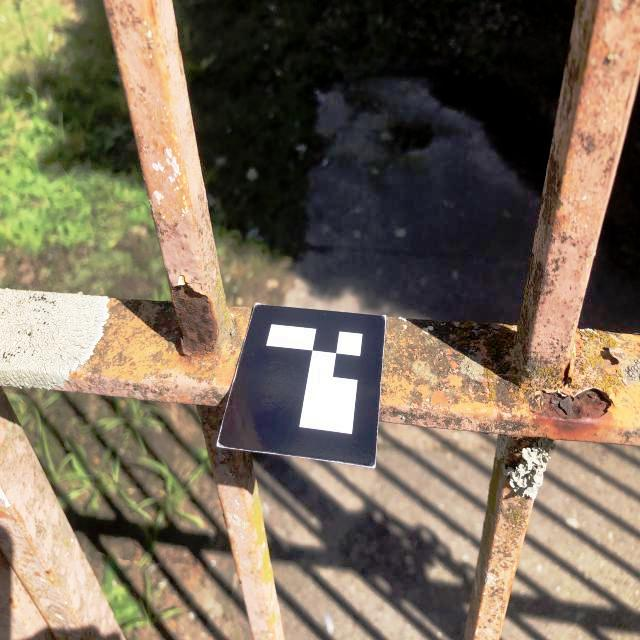Corrosion: (534, 388, 613, 430), (170, 284, 218, 353), (147, 0, 155, 26), (558, 363, 568, 381), (44, 570, 50, 574)
